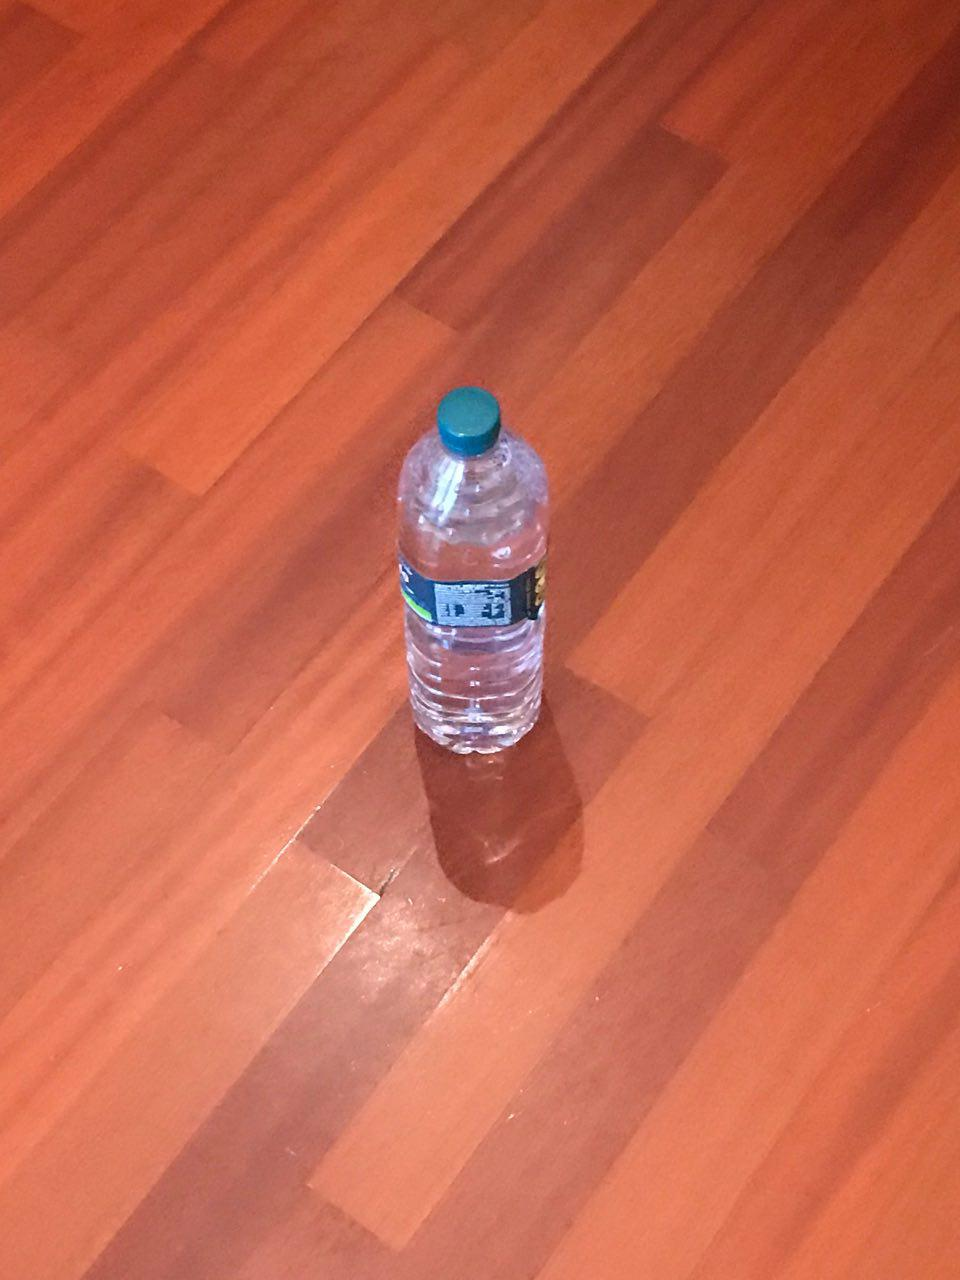san_bernardo: (395, 383, 549, 754)
